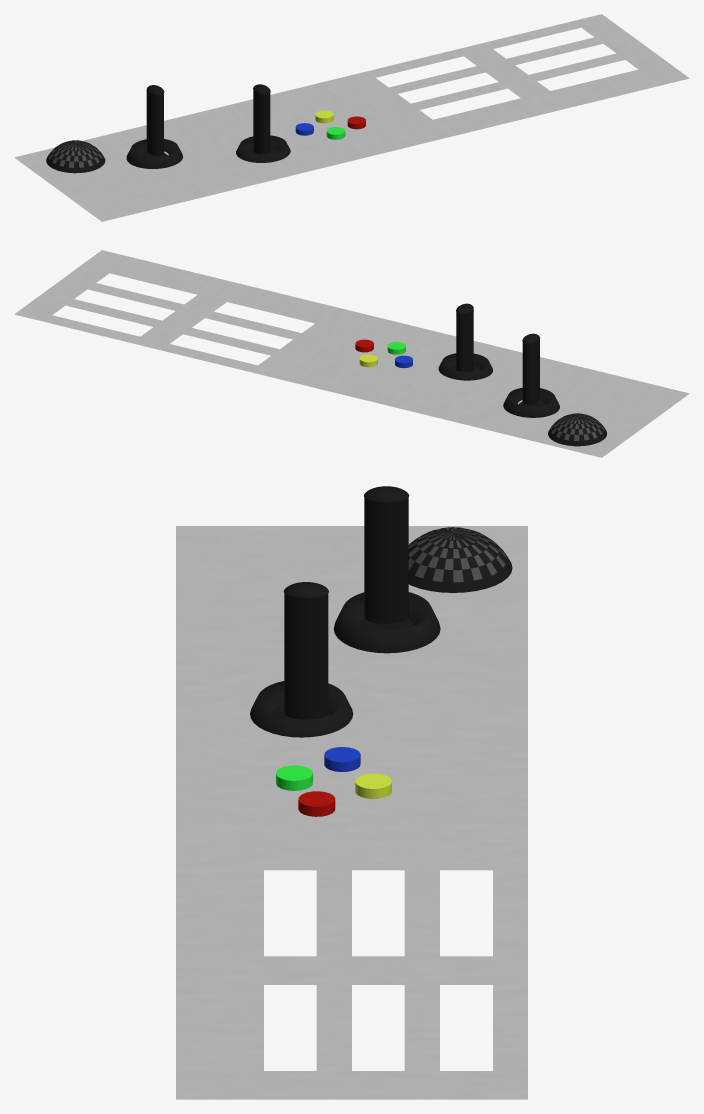
Rendered from HUD.FBX.
3 views of the same model, one above another, from view 1: azimuth 30°, elevation 25°; view 2: azimuth 150°, elevation 25°; view 3: azimuth 270°, elevation 25° (orthographic). The views are drawn at different scales.
Parts seen in each view (by area): view 1: Panel, StickHolder (×2), Speaker, LeftStick, RightStick; view 2: Panel, StickHolder (×2), Speaker, LeftStick, RightStick; view 3: Panel, StickHolder (×2), LeftStick, RightStick, Speaker.
Boxes of the visible parts, x1=… form: Panel: x1=14, y1=14, x2=689, y2=221; StickHolder (×2): x1=126, y1=135, x2=290, y2=168; Speaker: x1=46, y1=140, x2=105, y2=173; LeftStick: x1=146, y1=85, x2=164, y2=155; RightStick: x1=253, y1=84, x2=270, y2=154; Panel: x1=14, y1=250, x2=689, y2=457; StickHolder (×2): x1=438, y1=353, x2=559, y2=417; Speaker: x1=548, y1=413, x2=606, y2=446; LeftStick: x1=522, y1=333, x2=539, y2=404; RightStick: x1=456, y1=303, x2=473, y2=371; Panel: x1=176, y1=526, x2=527, y2=1099; StickHolder (×2): x1=250, y1=592, x2=440, y2=737; LeftStick: x1=364, y1=486, x2=409, y2=623; RightStick: x1=283, y1=582, x2=328, y2=719; Speaker: x1=408, y1=527, x2=512, y2=592.
Size of the model in its own units: 150 by 19.58 by 38.91.
